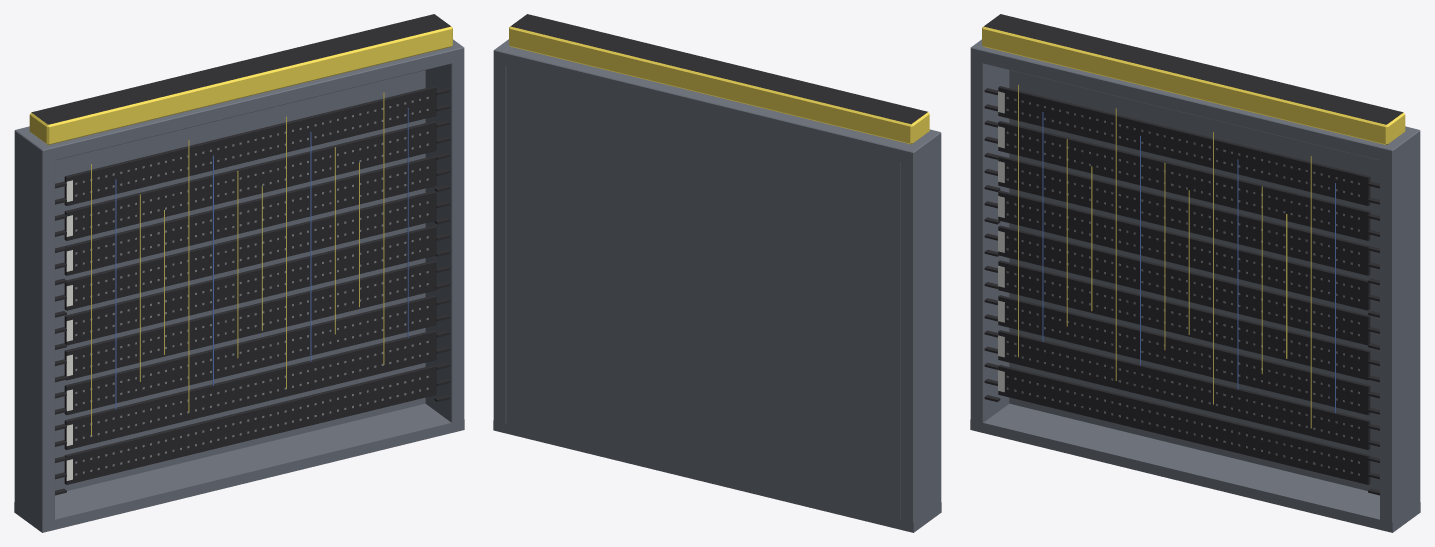
Rendered from mmr_frame.fbx.
3 renders of one model, left to right at view 1: azimuth 30°, elevation 25°; view 2: azimuth 150°, elevation 25°; view 3: azimuth 330°, elevation 25°, orthographic.
Parts seen in each view (by area): view 1: Panels, Frame; view 2: Frame; view 3: Panels, Frame.
Part boxes in pixels (x1,y1,x2,y2): Panels: (64,86,436,484); Frame: (14,14,464,532); Frame: (493,14,941,532); Panels: (998,86,1370,484); Frame: (970,14,1420,532).
Size of the model in its own units: 2.6 by 2.37 by 0.306.
